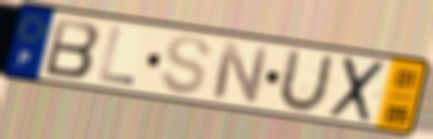B: (42, 15, 103, 80)
L: (96, 24, 137, 88)
N: (209, 40, 271, 107)
S: (158, 34, 214, 98)
U: (273, 46, 337, 115)
X: (325, 54, 389, 125)
